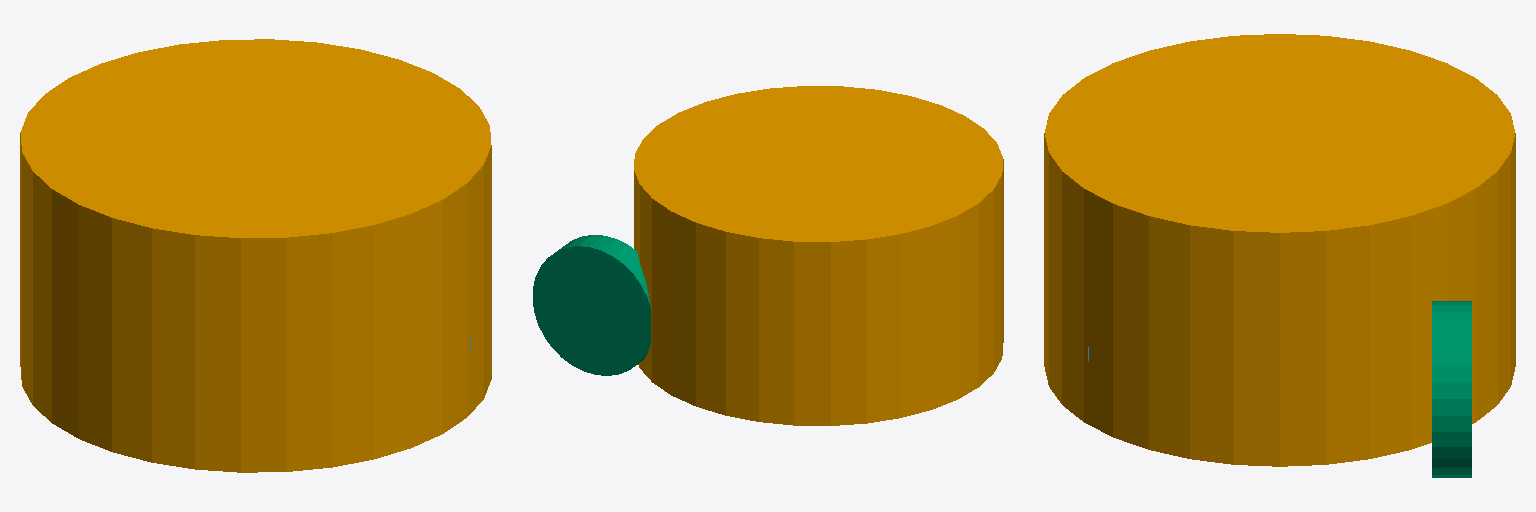
URDF robot description ([local-path]/AppData/Local/Programs/Python/Python39/updated-thes):
<?xml version="1.0"?>
<robot name="C:/Users/Timot/AppData/Local/Programs/Python/Python39/updated-thesis/protos/so100.urdf" xmlns:xacro="http://ros.org/wiki/xacro">
  <link name="base_link">
    <visual>
      <origin xyz="-0.0447 0 0.13" rpy="0 0 -1.570796"/>
      <geometry>
        <cylinder radius="0.219" length="0.24"/>
      </geometry>
    </visual>
    <collision>
      <origin xyz="-0.0447 0 0.13" rpy="0 0 -1.570796"/>
      <geometry>
        <cylinder radius="0.219" length="0.24"/>
      </geometry>
    </collision>
  </link>
  <link name="ds15">
  </link>
  <joint name="base_link_ds15_joint" type="fixed">
    <parent link="base_link"/>
    <child link="ds15"/>
    <origin xyz="0.164 -0.027 0.209" rpy="1.570796 0 -0.174796"/>
  </joint>
  <link name="ds14">
  </link>
  <joint name="base_link_ds14_joint" type="fixed">
    <parent link="base_link"/>
    <child link="ds14"/>
    <origin xyz="0.147 -0.077 0.209" rpy="1.570796 0 -0.523795"/>
  </joint>
  <link name="ds13">
  </link>
  <joint name="base_link_ds13_joint" type="fixed">
    <parent link="base_link"/>
    <child link="ds13"/>
    <origin xyz="0.116 -0.118 0.209" rpy="1.570796 0 -0.872795"/>
  </joint>
  <link name="ds12">
  </link>
  <joint name="base_link_ds12_joint" type="fixed">
    <parent link="base_link"/>
    <child link="ds12"/>
    <origin xyz="0.071 -0.136 0.209" rpy="1.570796 0 -1.570796"/>
  </joint>
  <link name="ds11">
  </link>
  <joint name="base_link_ds11_joint" type="fixed">
    <parent link="base_link"/>
    <child link="ds11"/>
    <origin xyz="-0.16 -0.136 0.209" rpy="1.570796 0 -1.570796"/>
  </joint>
  <link name="ds10">
  </link>
  <joint name="base_link_ds10_joint" type="fixed">
    <parent link="base_link"/>
    <child link="ds10"/>
    <origin xyz="-0.205 -0.118 0.209" rpy="1.570796 -0.000001 -2.268797"/>
  </joint>
  <link name="ds9">
  </link>
  <joint name="base_link_ds9_joint" type="fixed">
    <parent link="base_link"/>
    <child link="ds9"/>
    <origin xyz="-0.236 -0.077 0.209" rpy="1.570796 0 -2.617796"/>
  </joint>
  <link name="ds8">
  </link>
  <joint name="base_link_ds8_joint" type="fixed">
    <parent link="base_link"/>
    <child link="ds8"/>
    <origin xyz="-0.253 -0.027 0.209" rpy="1.570796 0 -2.966797"/>
  </joint>
  <link name="ds7">
  </link>
  <joint name="base_link_ds7_joint" type="fixed">
    <parent link="base_link"/>
    <child link="ds7"/>
    <origin xyz="-0.253 0.027 0.209" rpy="1.570796 0 2.967389"/>
  </joint>
  <link name="ds6">
  </link>
  <joint name="base_link_ds6_joint" type="fixed">
    <parent link="base_link"/>
    <child link="ds6"/>
    <origin xyz="-0.236 0.077 0.209" rpy="1.570796 0 2.618389"/>
  </joint>
  <link name="ds5">
  </link>
  <joint name="base_link_ds5_joint" type="fixed">
    <parent link="base_link"/>
    <child link="ds5"/>
    <origin xyz="-0.205 0.118 0.209" rpy="1.570796 0 2.269389"/>
  </joint>
  <link name="ds4">
  </link>
  <joint name="base_link_ds4_joint" type="fixed">
    <parent link="base_link"/>
    <child link="ds4"/>
    <origin xyz="-0.16 0.136 0.209" rpy="1.570796 0 1.57239"/>
  </joint>
  <link name="ds3">
  </link>
  <joint name="base_link_ds3_joint" type="fixed">
    <parent link="base_link"/>
    <child link="ds3"/>
    <origin xyz="0.071 0.136 0.209" rpy="1.570796 0 1.569205"/>
  </joint>
  <link name="ds2">
  </link>
  <joint name="base_link_ds2_joint" type="fixed">
    <parent link="base_link"/>
    <child link="ds2"/>
    <origin xyz="0.116 0.118 0.209" rpy="1.570797 0 0.872204"/>
  </joint>
  <link name="ds1">
  </link>
  <joint name="base_link_ds1_joint" type="fixed">
    <parent link="base_link"/>
    <child link="ds1"/>
    <origin xyz="0.147 0.077 0.209" rpy="1.570796 0 0.523204"/>
  </joint>
  <link name="ds0">
  </link>
  <joint name="base_link_ds0_joint" type="fixed">
    <parent link="base_link"/>
    <child link="ds0"/>
    <origin xyz="0.164 0.027 0.209" rpy="0 0 0.174203"/>
  </joint>
  <joint name="right wheel motor" type="continuous">
    <parent link="base_link"/>
    <child link="right wheel"/>
    <axis xyz="-1 0 0"/>
    <limit effort="10" velocity="10"/>
    <origin xyz="0 0 0.0825" rpy="2.493482 0 -1.570796"/>
  </joint>
  <link name="right wheel">
    <visual>
      <origin xyz="0.1603 0 0" rpy="-1.570796 0 1.57"/>
      <geometry>
        <cylinder radius="0.0825" length="0.037"/>
      </geometry>
    </visual>
    <collision>
      <origin xyz="0.1603 0 0" rpy="-1.570796 0 1.57"/>
      <geometry>
        <cylinder radius="0.0825" length="0.037"/>
      </geometry>
    </collision>
  </link>
  <joint name="left wheel motor" type="continuous">
    <parent link="base_link"/>
    <child link="left wheel"/>
    <axis xyz="-1 0 0"/>
    <limit effort="10" velocity="10"/>
    <origin xyz="0.1603 0 0.0825" rpy="0.528445 0 -1.570796"/>
  </joint>
  <link name="left wheel">
    <visual>
      <origin xyz="-0.1603 0 0" rpy="-1.570796 0 1.57"/>
      <geometry>
        <cylinder radius="0.0825" length="0.037"/>
      </geometry>
    </visual>
    <collision>
      <origin xyz="-0.1603 0 0" rpy="-1.570796 0 1.57"/>
      <geometry>
        <cylinder radius="0.0825" length="0.037"/>
      </geometry>
    </collision>
  </link>
</robot>

--- What the picture shows (computed from the rendered views, not written in the file) ---
Views: 3 orthographic renders of the robot side by side, from view 1: azimuth 30°, elevation 25°; view 2: azimuth 150°, elevation 25°; view 3: azimuth 270°, elevation 25°.
Model [local-path]/AppData/Local/Programs/Python/Python39/updated-thes with 19 links and 18 joints (2 continuous, 16 fixed), rooted at base_link, posed all joints at 0.
Visible links, largest first — view 1: base_link; view 2: base_link, left wheel; view 3: base_link, left wheel.
Boxes of the visible links, x1,y1,x2,y2 form: base_link: (20,39,491,472); base_link: (634,86,1003,425); left wheel: (533,235,650,375); base_link: (1044,34,1515,466); left wheel: (1432,301,1471,477).
Bounding box of the posed robot: 0.5064 × 0.438 × 0.2499 m (x, y, z).
Geometry: primitives only (box / cylinder / sphere), no mesh files.
